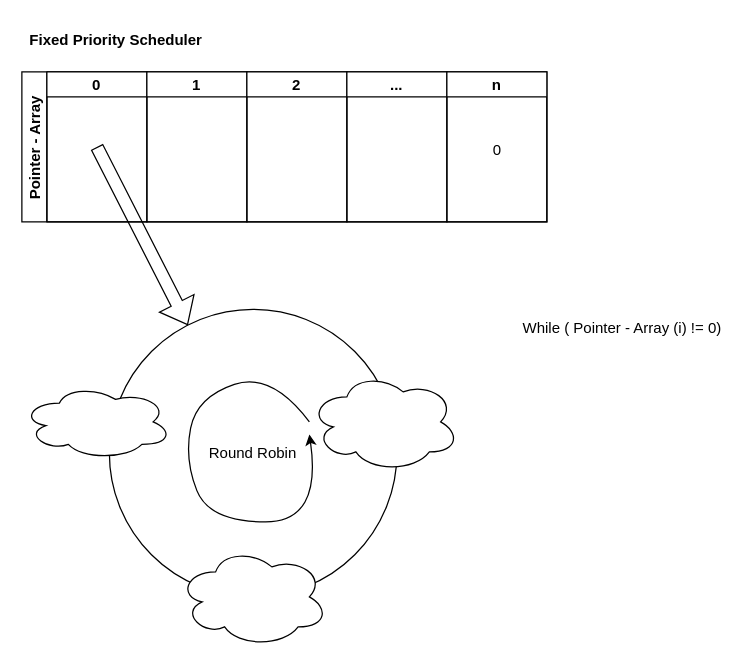
Image size: 756x669. Some labels were removed from this diagram. The centre of each missing label's shape, as x and y in pixels:
"Task A" belongs at (96,421).
"Task B" belongs at (252,596).
"Task C" belongs at (383,421).
